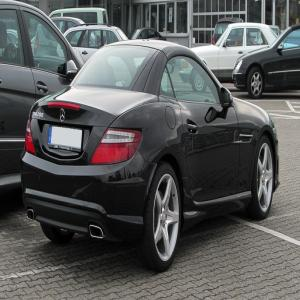Vehicle-registration-plate: (48, 124, 86, 153)
